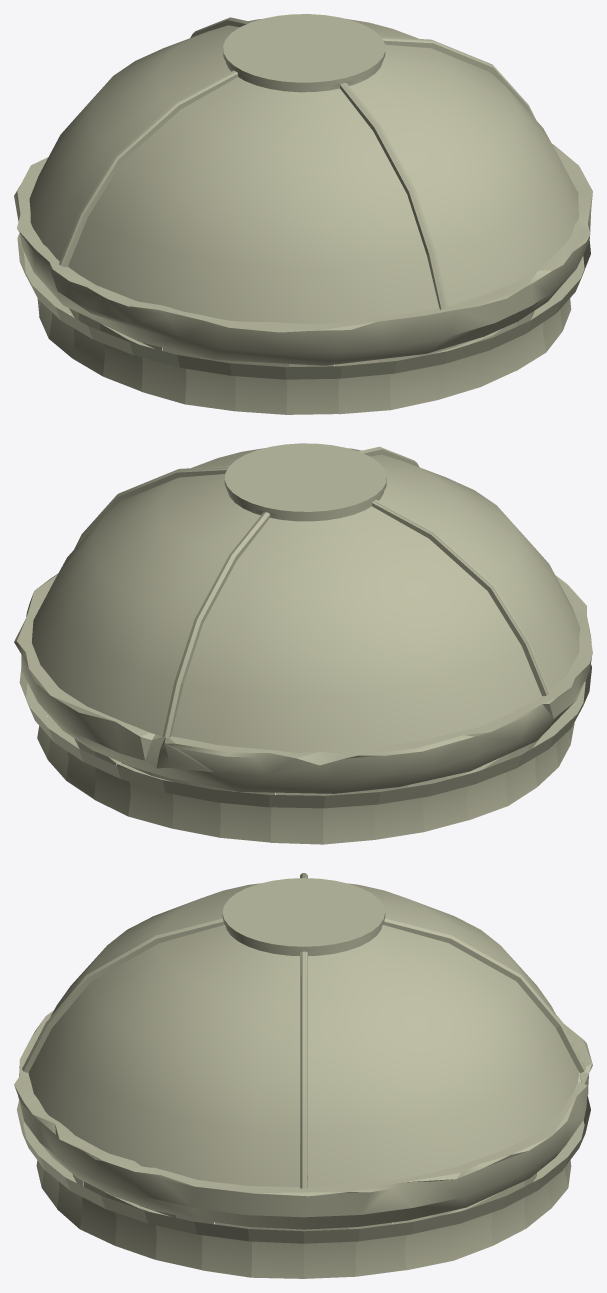
The model's file is SM_alterroof.fbx.
The picture shows the model from 3 angles, top to bottom: view 1: azimuth 30°, elevation 25°; view 2: azimuth 150°, elevation 25°; view 3: azimuth 270°, elevation 25°; orthographic projection.
Parts seen in each view (by area): view 1: roofinside_low.001; view 2: roofinside_low.001; view 3: roofinside_low.001.
Boxes of the visible parts, x1,y1,x2,y2 form: roofinside_low.001: [14, 14, 592, 414]; roofinside_low.001: [14, 443, 592, 844]; roofinside_low.001: [14, 873, 592, 1278].
Size of the model in its own units: 1003 by 482 by 997.
